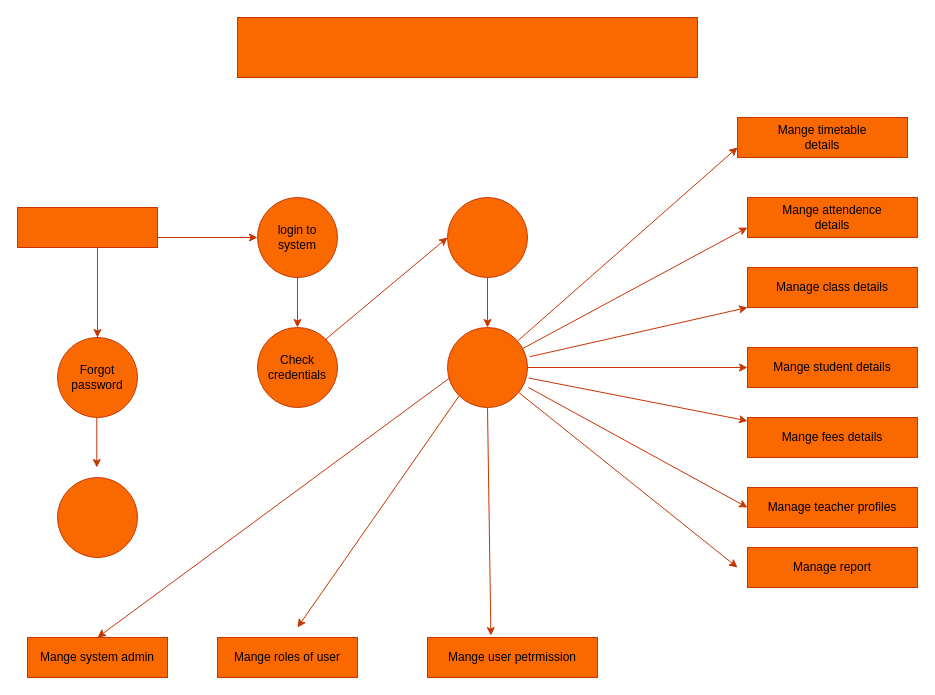
Image size: 935x695. Some labels were removed from this diagram. Here are the shapes that lost their labels. From the top down, the centre of each, then its label:
At (467,47): "Student information system".
At (87,227): "Admin".
At (487,237): "Check roles of access".
At (487,367): "Manage modules".
At (97,517): "Send email to user".
